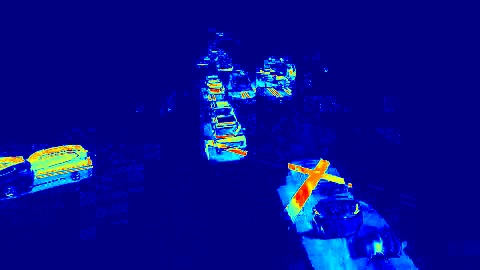vehicle: (293, 164, 381, 270), (6, 143, 95, 214), (209, 103, 234, 154), (226, 74, 249, 99), (261, 74, 287, 93), (206, 78, 220, 96)
